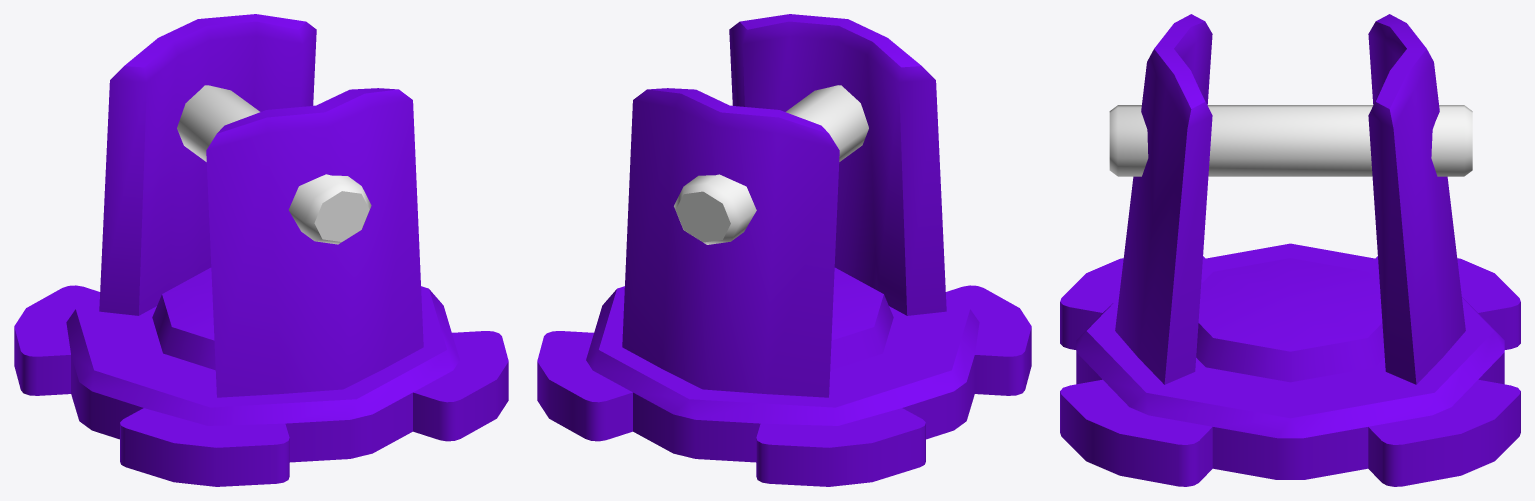
Rendered from Ground_Hammer_Socket_06.fbx.
3 views of the same model, side by side, from view 1: azimuth 30°, elevation 25°; view 2: azimuth 150°, elevation 25°; view 3: azimuth 270°, elevation 25° (orthographic). The views are drawn at different scales.
Parts seen in each view (by area): view 1: Obstacle_Ground_Hammer_Socket_06; view 2: Obstacle_Ground_Hammer_Socket_06; view 3: Obstacle_Ground_Hammer_Socket_06.
Boxes of the visible parts, x1=… form: Obstacle_Ground_Hammer_Socket_06: x1=14, y1=14, x2=508, y2=486; Obstacle_Ground_Hammer_Socket_06: x1=537, y1=14, x2=1031, y2=486; Obstacle_Ground_Hammer_Socket_06: x1=1060, y1=14, x2=1520, y2=486.
Size of the model in its own units: 81.47 by 65.31 by 80.32.
Materials: 1 (1 with a texture image).
